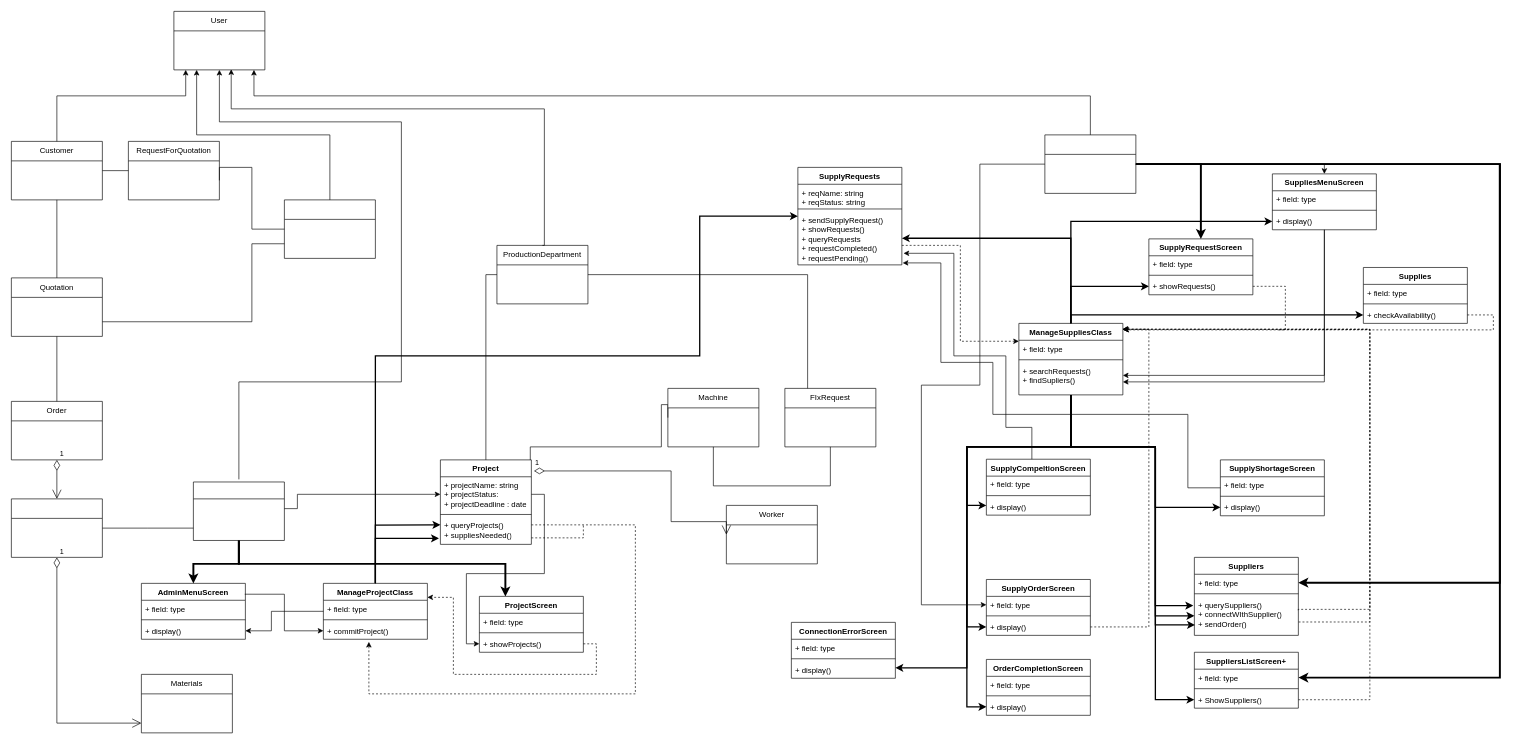
Image size: 1517x746. Some labels were removed from this diagram. The centre of each missing label's shape, as x and y in pixels:
Admin: point (238, 510)
Product: point (56, 527)
SalesDepartment: point (329, 228)
SuppliesDepartment: point (1090, 163)
